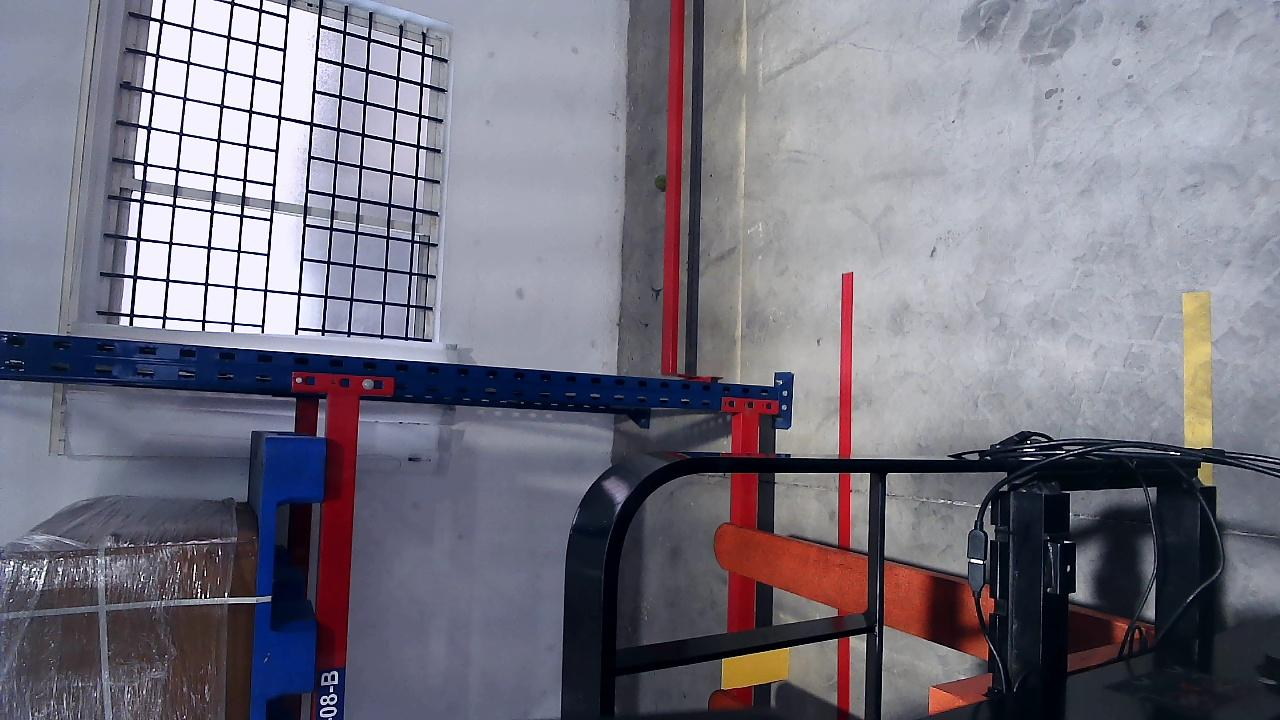h_rack: (722, 409, 759, 716), (325, 393, 357, 719)
orange_strip: (720, 650, 790, 690)
red_line: (837, 271, 855, 707)
small_pallet: (248, 437, 327, 719)
yellow_line: (1182, 291, 1214, 448)
